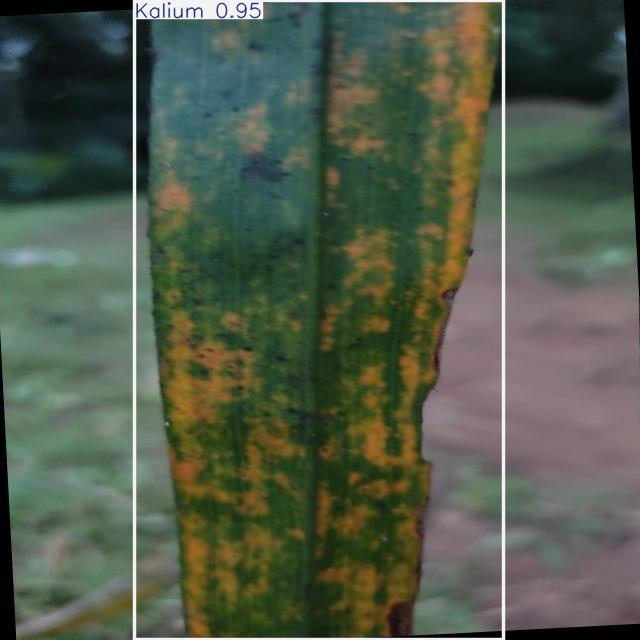Kalium: (135, 0, 503, 640)
